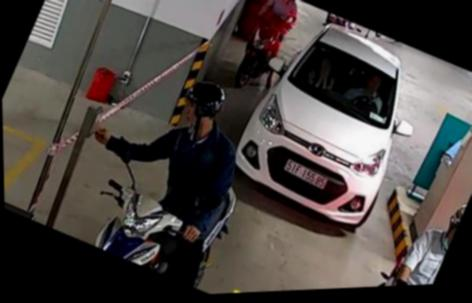License_Plate: (273, 146, 339, 201)
